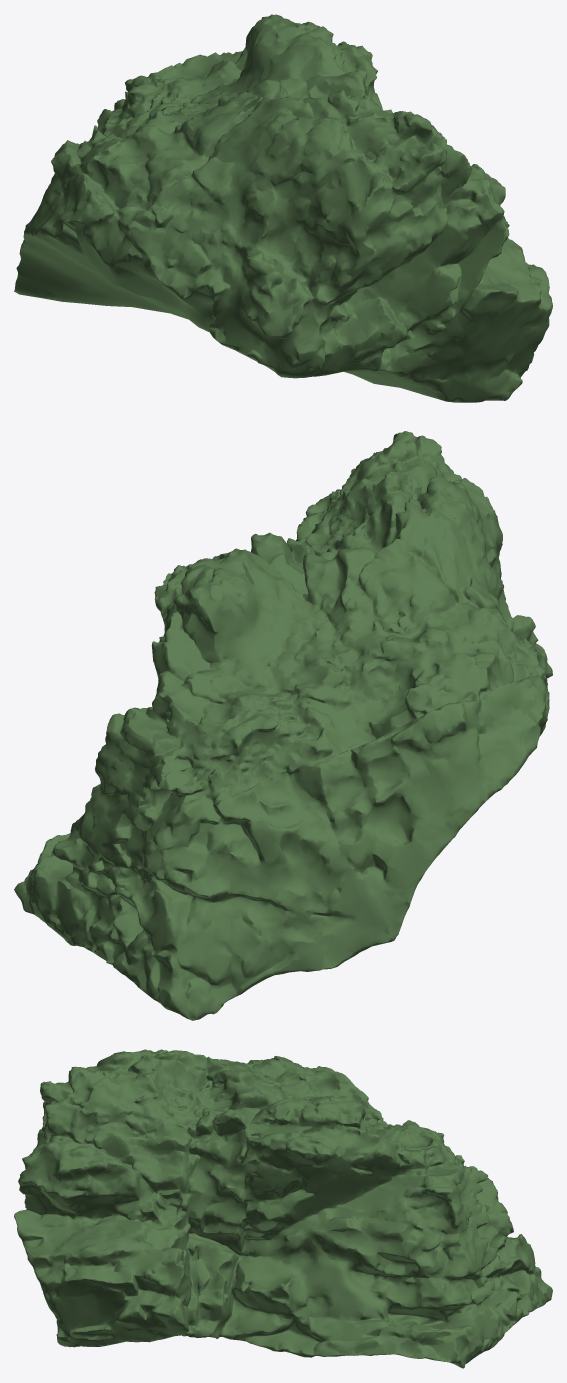
Rendered from rock_boulder.glb.
3 renders of one model, top to bottom at view 1: azimuth 30°, elevation 25°; view 2: azimuth 150°, elevation 25°; view 3: azimuth 270°, elevation 25°, orthographic. The views are drawn at different scales.
Visible parts, largest first — view 1: boulder_01; view 2: boulder_01; view 3: boulder_01.
Boxes of the visible parts, box(x1,y1,x2,y2) form: boulder_01: box(14, 14, 552, 402); boulder_01: box(14, 431, 552, 1020); boulder_01: box(14, 1049, 552, 1368).
Size of the model in its own units: 3.55 by 2.8 by 5.11.
